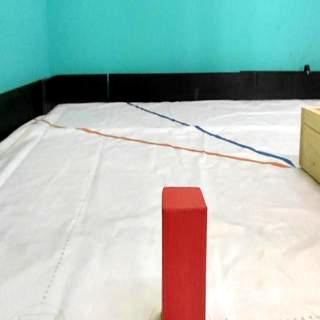redbox: (162, 187, 208, 320)
